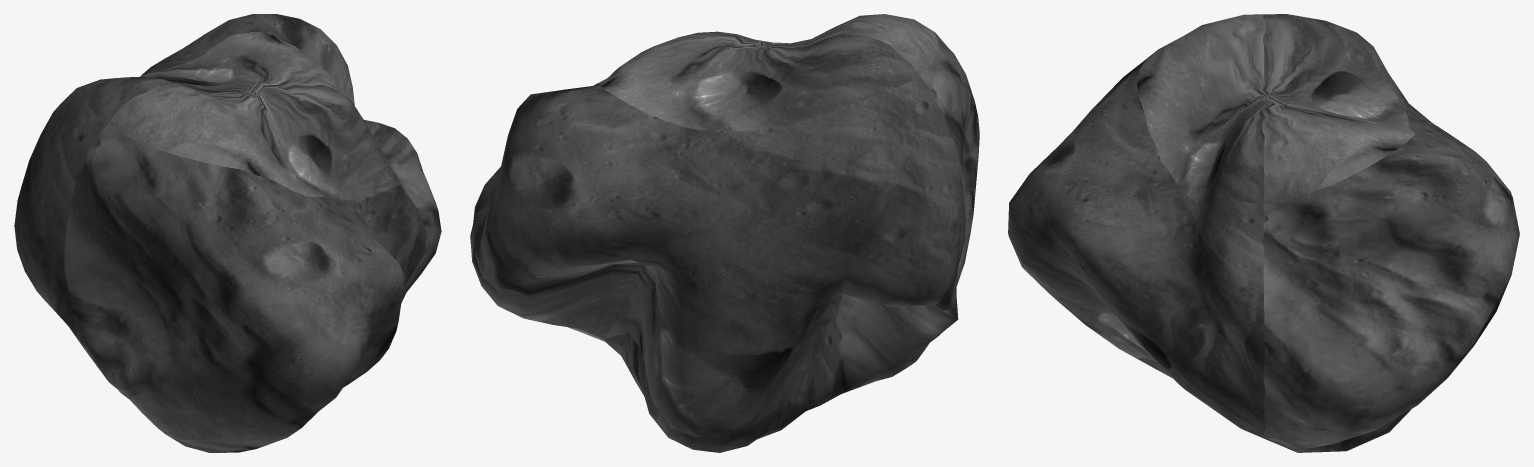
The model's file is Asteroide 02.fbx.
3 renders of one model, left to right at view 1: azimuth 30°, elevation 25°; view 2: azimuth 150°, elevation 25°; view 3: azimuth 270°, elevation 25°, orthographic. The views are drawn at different scales.
Visible parts, largest first — view 1: nurbsToPoly1; view 2: nurbsToPoly1; view 3: nurbsToPoly1.
Part boxes in pixels (x1,y1,x2,y2): nurbsToPoly1: [14, 14, 441, 452]; nurbsToPoly1: [470, 14, 979, 452]; nurbsToPoly1: [1008, 14, 1519, 452].
Size of the model in its own units: 22.46 by 19.73 by 24.53.
1 material, 1 textured.
